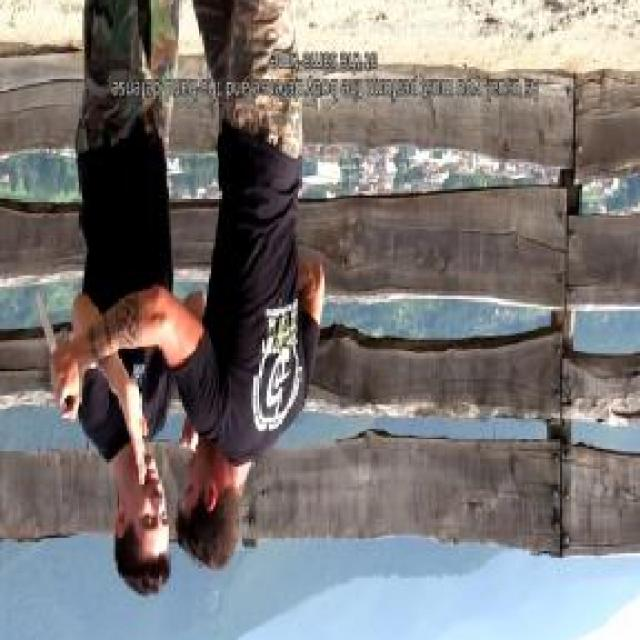knife: (34, 288, 82, 427)
